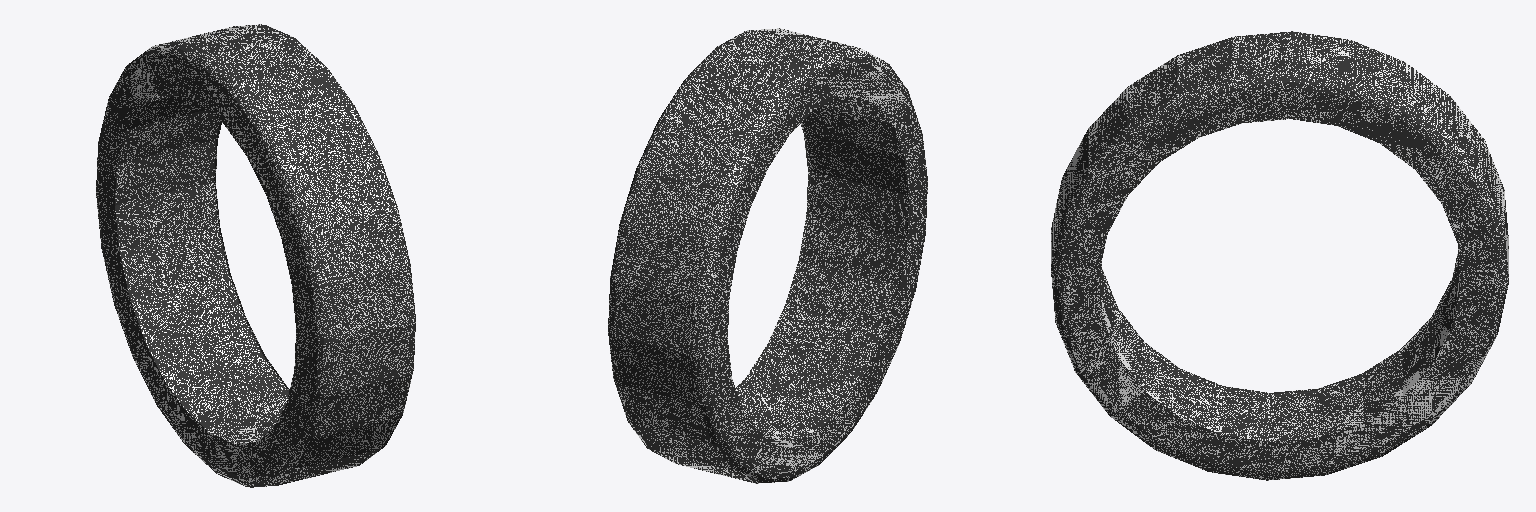
File: original-25.obj
The picture shows the model from 3 angles: view 1: azimuth 30°, elevation 25°; view 2: azimuth 150°, elevation 25°; view 3: azimuth 270°, elevation 25°; orthographic projection.
Parts seen in each view (by area): view 1: W-1030-RL-1_15_16_1/mesh18/mesh18-geometry#mesh18-geometry; view 2: W-1030-RL-1_15_16_1/mesh18/mesh18-geometry#mesh18-geometry; view 3: W-1030-RL-1_15_16_1/mesh18/mesh18-geometry#mesh18-geometry.
Part boxes in pixels (x1,y1,x2,y2): W-1030-RL-1_15_16_1/mesh18/mesh18-geometry#mesh18-geometry: (96, 24, 415, 487); W-1030-RL-1_15_16_1/mesh18/mesh18-geometry#mesh18-geometry: (608, 28, 927, 483); W-1030-RL-1_15_16_1/mesh18/mesh18-geometry#mesh18-geometry: (1051, 31, 1508, 480).
Size of the model in its own units: 0.0632 by 0.2444 by 0.2484.